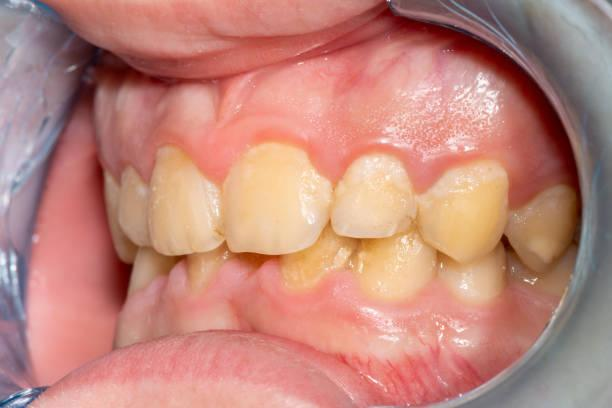Calculus: (509, 163, 581, 272)
